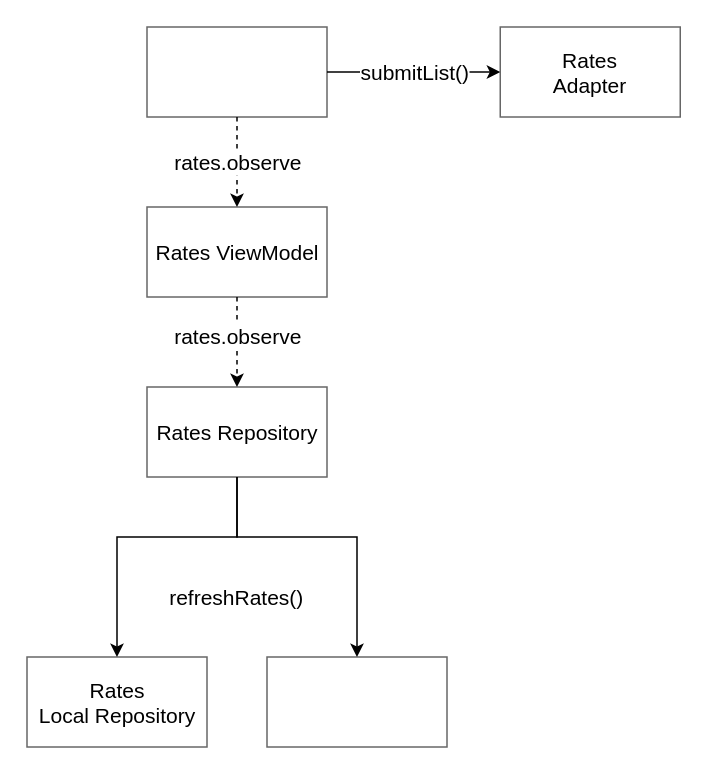
This 707x773 diagram has some shape labels left out. The centre of each missing label's shape, as x and y in pixels:
Rates Fragment: pixel 236 71
Rates Remote Repository: pixel 356 701
